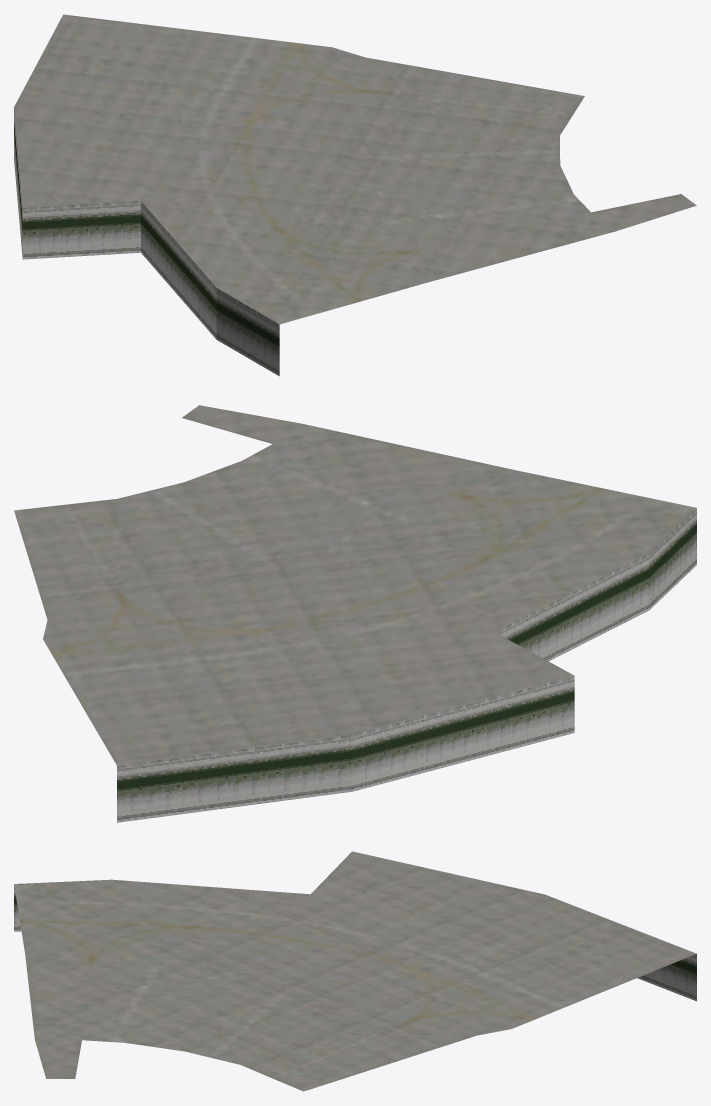
Rendered from lodprtgnd_05_sfse.obj.
The picture shows the model from 3 angles, top to bottom: view 1: azimuth 30°, elevation 25°; view 2: azimuth 150°, elevation 25°; view 3: azimuth 270°, elevation 25°; orthographic projection. The views are drawn at different scales.
Parts seen in each view (by area): view 1: LODprtgnd_05_SFSe; view 2: LODprtgnd_05_SFSe; view 3: LODprtgnd_05_SFSe.
Part boxes in pixels (bbox=[...]): LODprtgnd_05_SFSe: bbox=[14, 14, 696, 376]; LODprtgnd_05_SFSe: bbox=[14, 405, 696, 822]; LODprtgnd_05_SFSe: bbox=[14, 851, 696, 1091].
Size of the model in its own units: 316 by 29.33 by 380.
2 materials, 2 textured.
